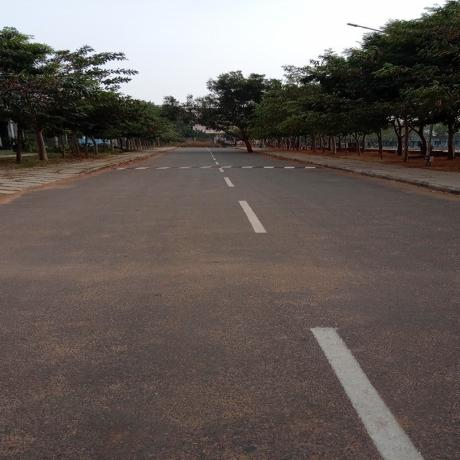Speed Bump: (117, 164, 323, 170)
